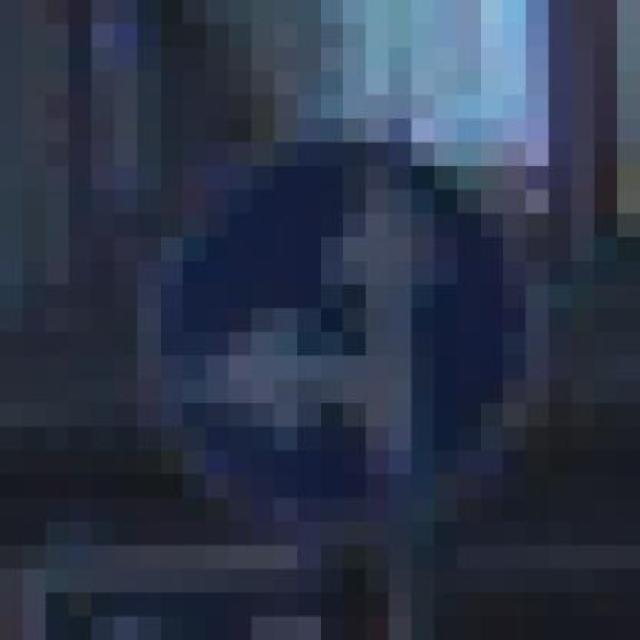Go straight or turn left: (137, 94, 549, 568)
